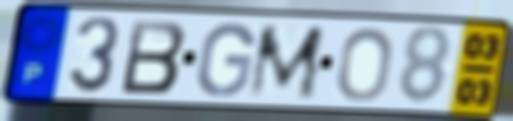3: (66, 15, 121, 97)
8: (394, 24, 457, 110)
B: (118, 17, 190, 96)
G: (193, 20, 258, 100)
M: (245, 23, 328, 101)
O: (334, 25, 397, 105)
